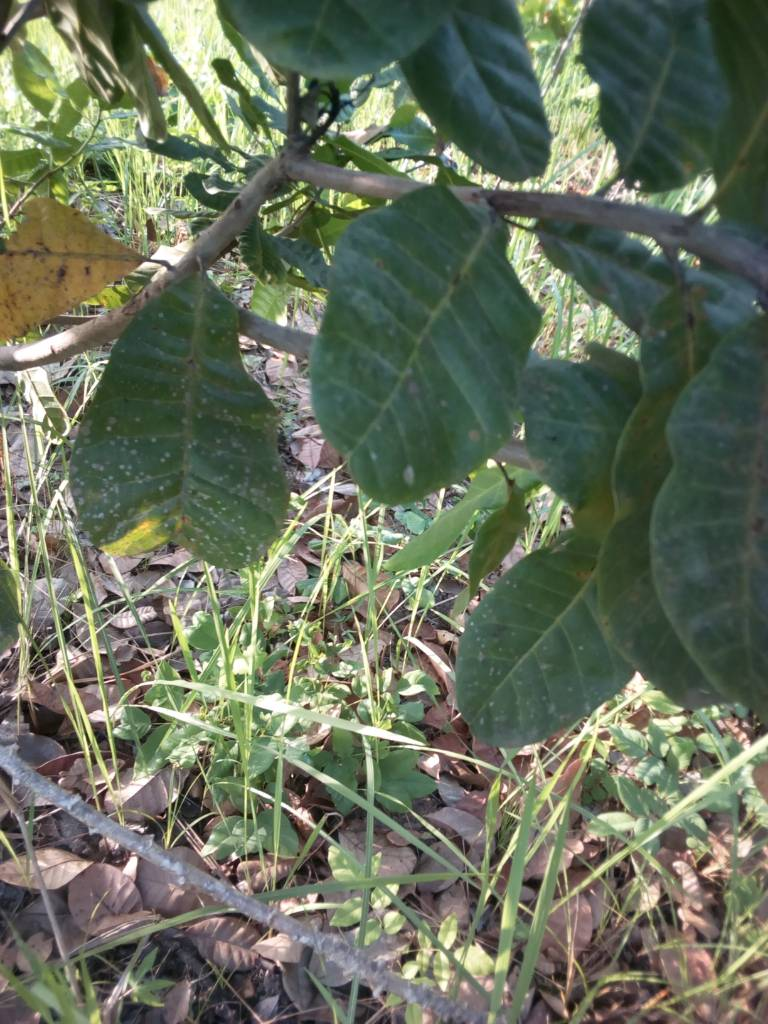Oidium: (52, 250, 338, 574), (318, 180, 549, 519), (654, 309, 768, 728)
